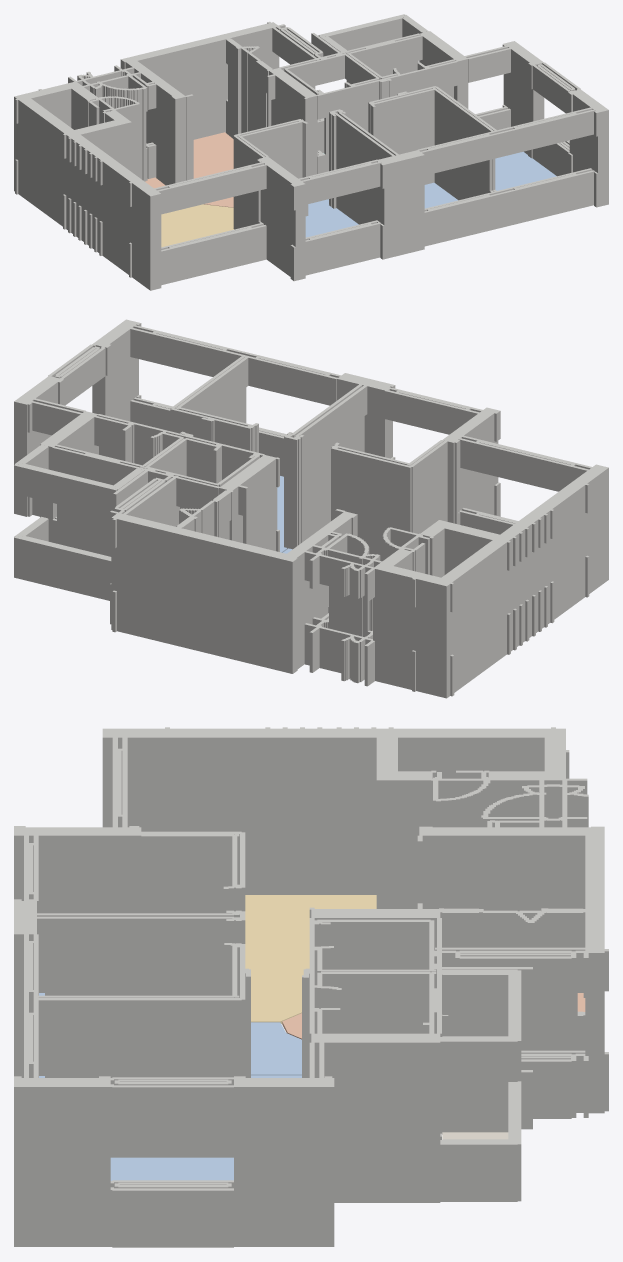
3 renders of one model, top to bottom at view 1: azimuth 30°, elevation 25°; view 2: azimuth 150°, elevation 25°; view 3: azimuth 270°, elevation 25°, orthographic. The views are drawn at different scales.
Parts seen in each view (by area): view 1: walls, room:living:5, room:kitchen:0, room:bedroom:8, room:bedroom:6, room:bedroom:7; view 2: walls; view 3: walls, room:living:5, room:bedroom:8, room:bedroom:6.
Boxes of the visible parts, box(x1,y1,x2,y2) form: walls: box(14, 14, 608, 290); room:living:5: box(161, 204, 233, 247); room:kitchen:0: box(145, 132, 233, 207); room:bedroom:8: box(495, 151, 556, 190); room:bedroom:6: box(305, 199, 358, 237); room:bedroom:7: box(424, 182, 457, 208); walls: box(14, 319, 608, 698); walls: box(14, 727, 608, 1247); room:living:5: box(245, 895, 376, 1023); room:bedroom:8: box(110, 1157, 233, 1180); room:bedroom:6: box(39, 993, 301, 1075).
Bounding box in the file's own units: 13.5 × 2.8 × 9.43.
